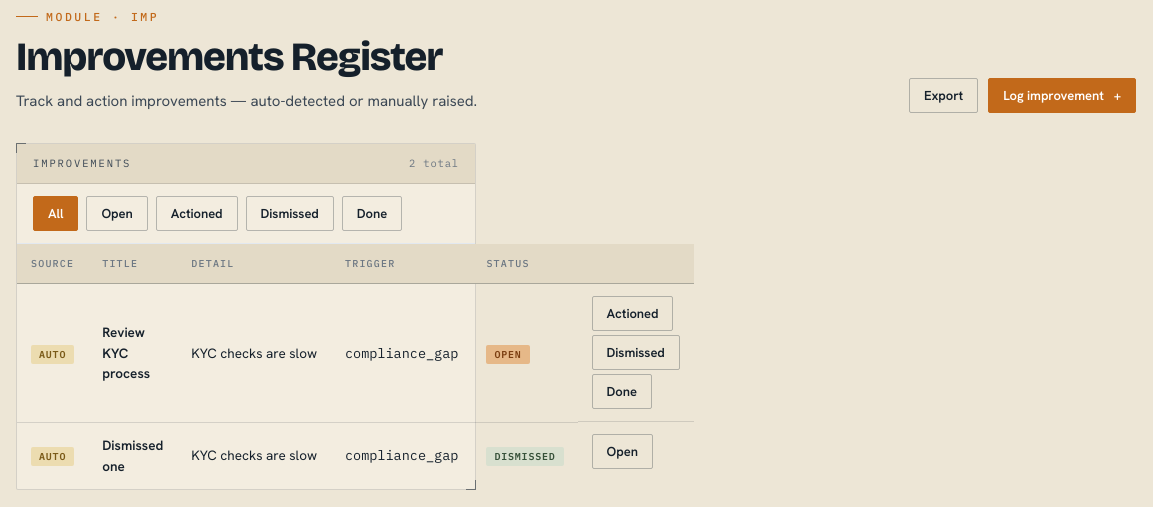
Test case: ImprovementsPage › filters improvements by status
This screenshot has width=1153, height=507.
Expected: the text "Review KYC process" is shown, [88,284,177,422]
Expected: the text "Dismissed one" is shown, [88,422,177,488]
Note: Filter to 'open' only
Click the 1st button "Open". click: click(117, 213)
box: [86,196,148,231]
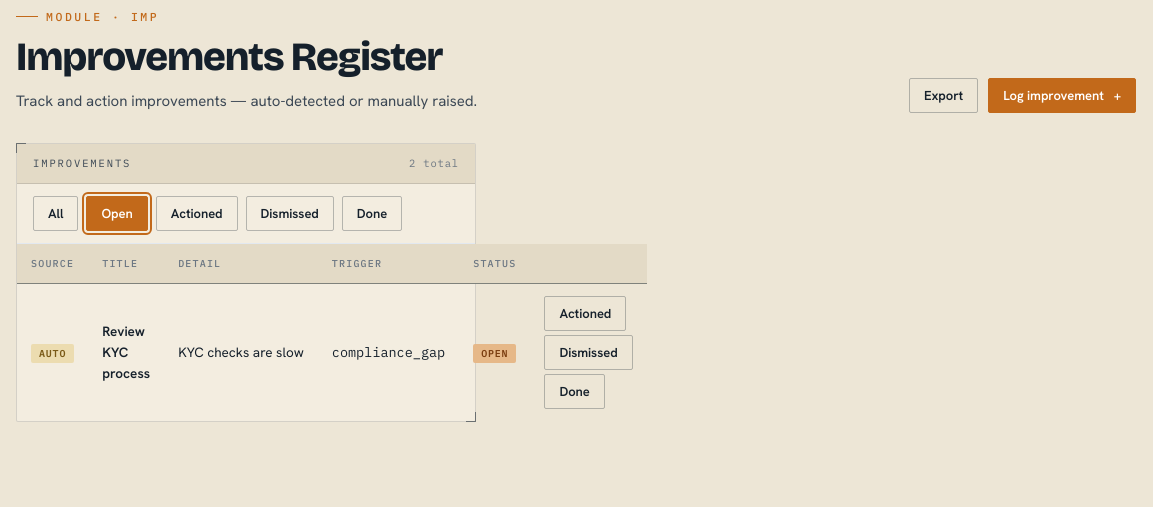
Expected: the text "Review KYC process" is shown, [88,284,164,421]
Now the text "Dismissed one" is gone
Note: Filter to 'dismissed' only
Click the 1st button "Dismissed". click: click(290, 213)
box: [246,196,334,231]
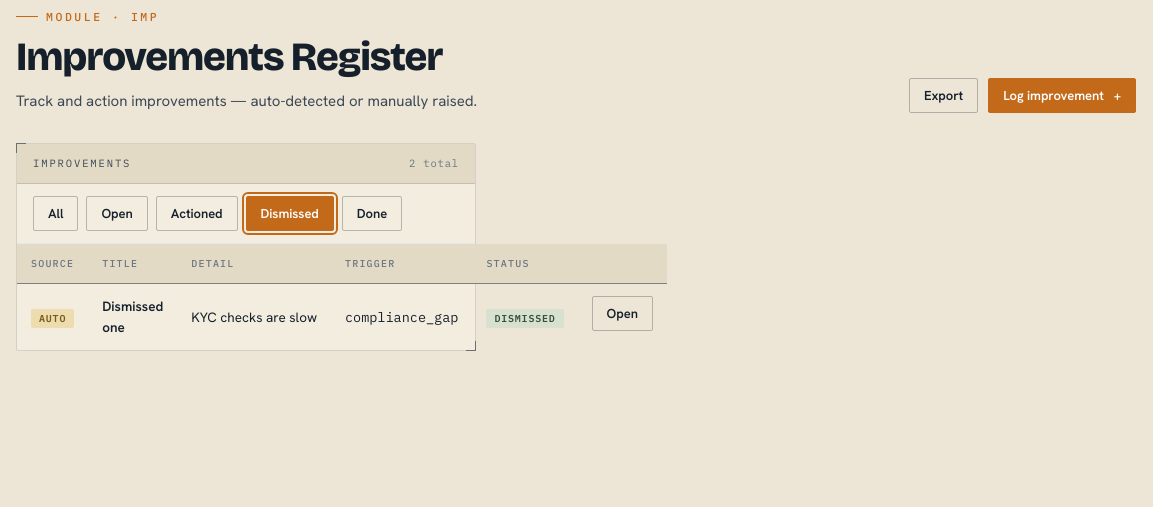
Now the text "Review KYC process" is gone
Now the text "Dismissed one" is shown, box [88,284,177,350]
